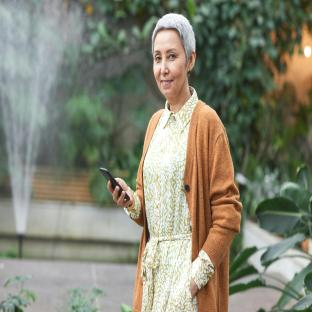Human: (107, 13, 242, 312)
